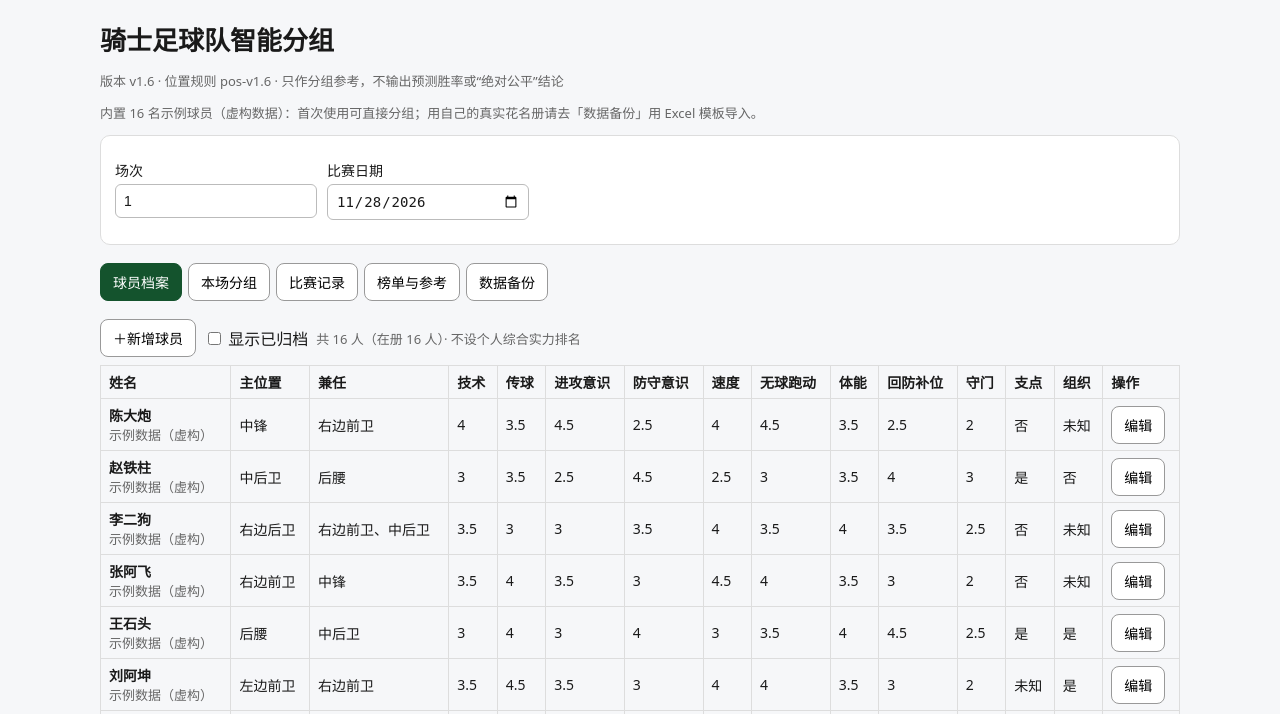
App smoke (v1.6) › generating a grouping shows 3 recommended schemes
Click the button "本场分组".
click(229, 282)  # box [188,263,270,301]
(page scrolled)
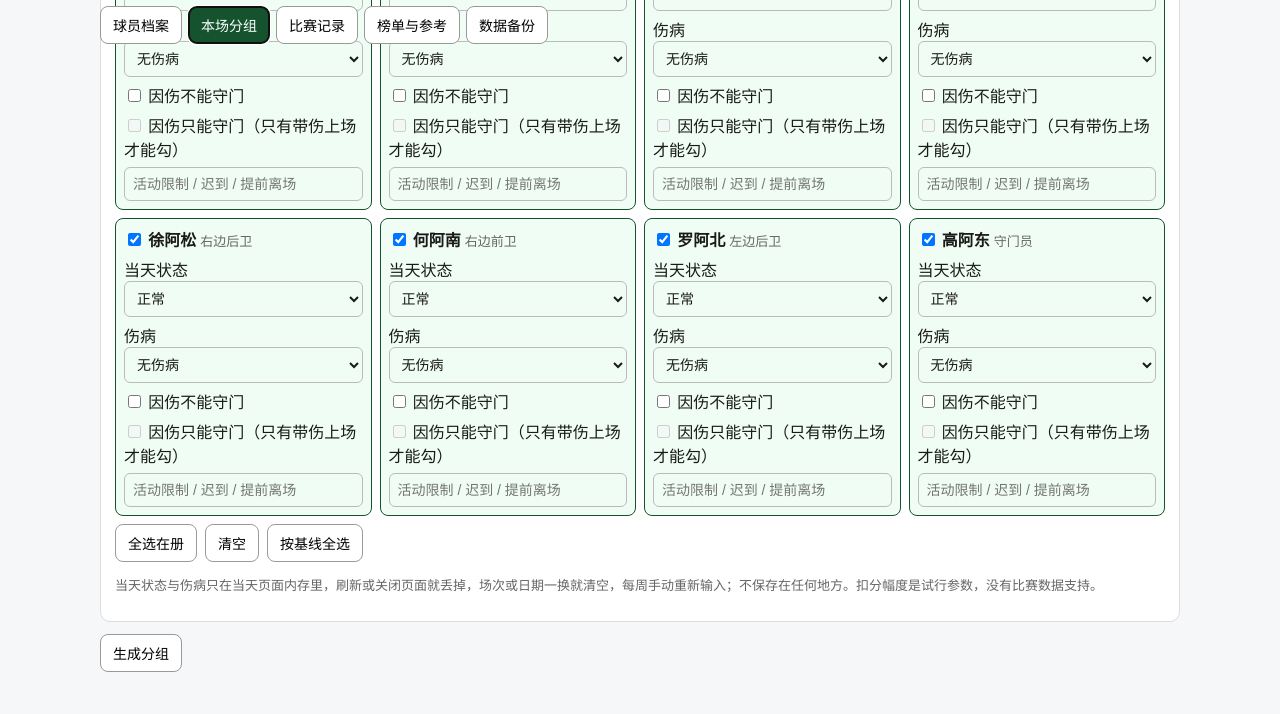
Click the button "生成分组".
click(141, 653)  # box [100,634,182,672]
(page scrolled)
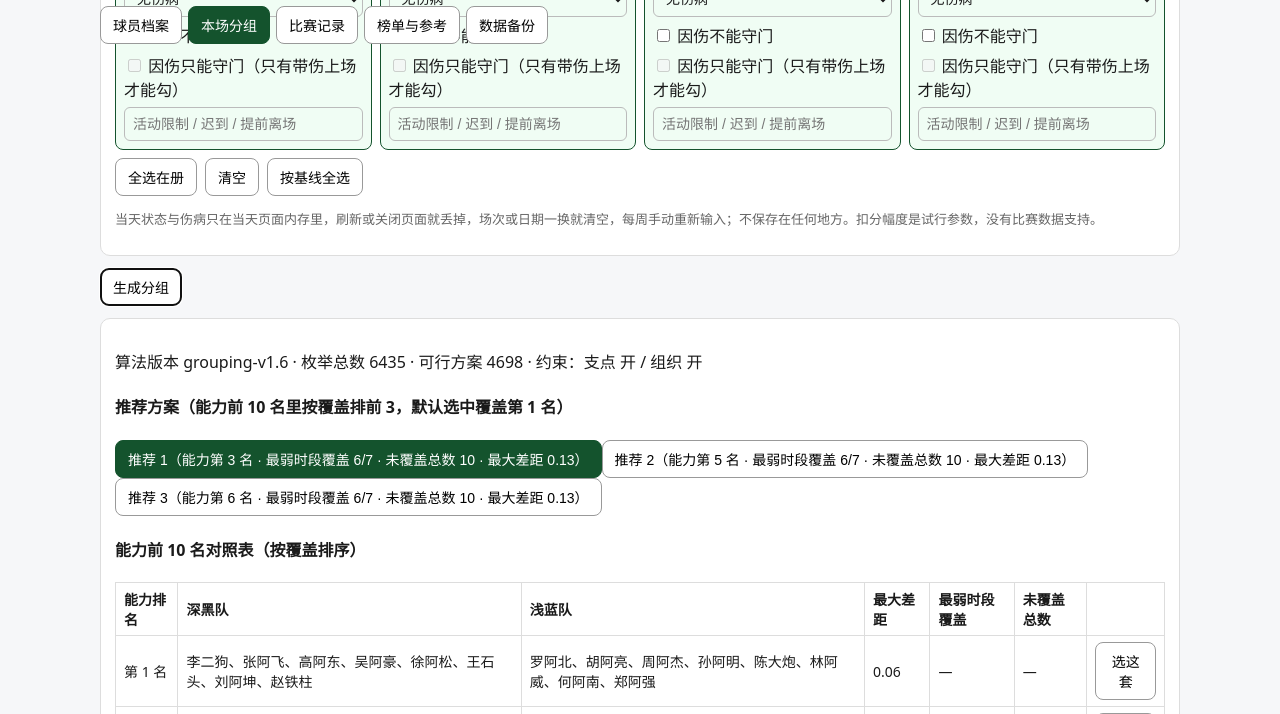
Expected: the heading "推荐方案（能力前 10 名里按覆盖排前 3，默认选中覆盖第 1 名）" is shown, [115,396,572,418]
Expected: the text "算法版本 grouping-v1.6 · 枚举总数 6435 · 可行方案 4698 · 约束：支点 开 / 组织 开" is shown, [115,351,702,373]
